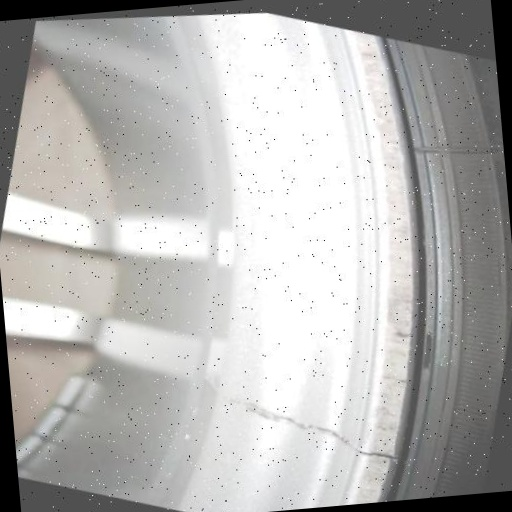crack: (200, 358, 415, 493)
